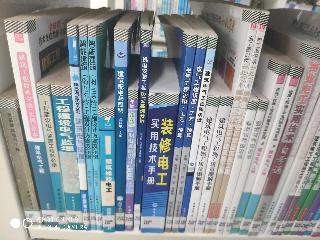book-spine: (244, 46, 320, 238), (208, 11, 269, 233), (202, 10, 260, 233), (4, 17, 57, 228), (238, 65, 303, 236), (230, 63, 289, 234), (176, 36, 217, 232), (170, 37, 207, 232), (164, 35, 196, 232), (222, 101, 267, 235), (136, 92, 177, 234), (215, 100, 257, 235), (193, 96, 232, 233), (0, 97, 41, 227), (184, 96, 219, 234), (38, 83, 68, 228), (52, 84, 82, 229), (68, 25, 89, 230), (131, 30, 151, 230), (79, 25, 96, 228), (89, 26, 102, 230), (115, 29, 127, 230), (123, 90, 137, 229), (99, 108, 114, 231)
